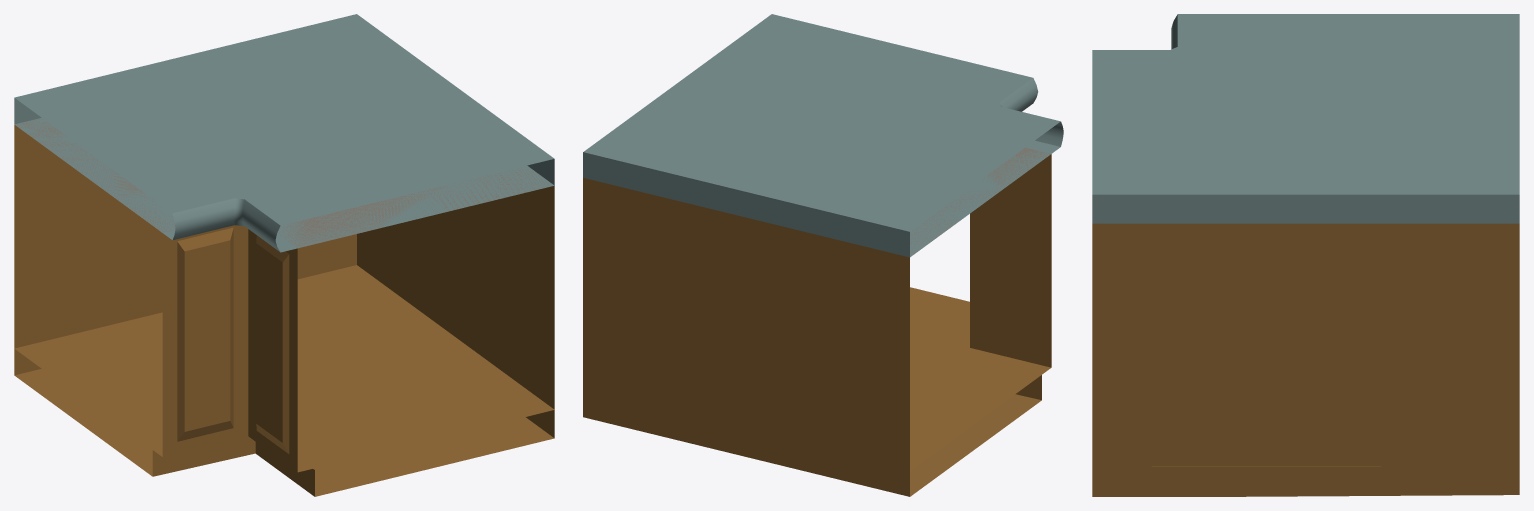
Rendered from Counter_Corner.fbx.
3 renders of one model, left to right at view 1: azimuth 30°, elevation 25°; view 2: azimuth 150°, elevation 25°; view 3: azimuth 270°, elevation 25°, orthographic. The views are drawn at different scales.
Parts seen in each view (by area): view 1: Counter_Corner; view 2: Counter_Corner; view 3: Counter_Corner.
Boxes of the visible parts, <box> form: Counter_Corner: <box>14,14,554,496</box>; Counter_Corner: <box>583,14,1063,496</box>; Counter_Corner: <box>1092,14,1519,496</box>.
Size of the model in its own units: 2 by 1.56 by 2.
